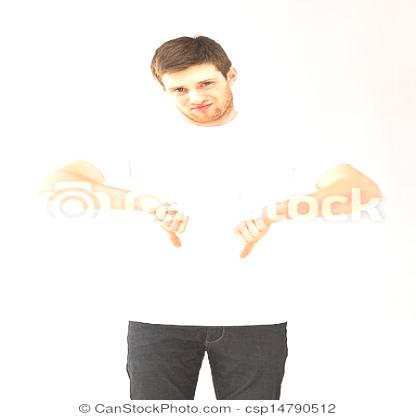Thumbs Down: (228, 208, 283, 270), (147, 204, 199, 252)
